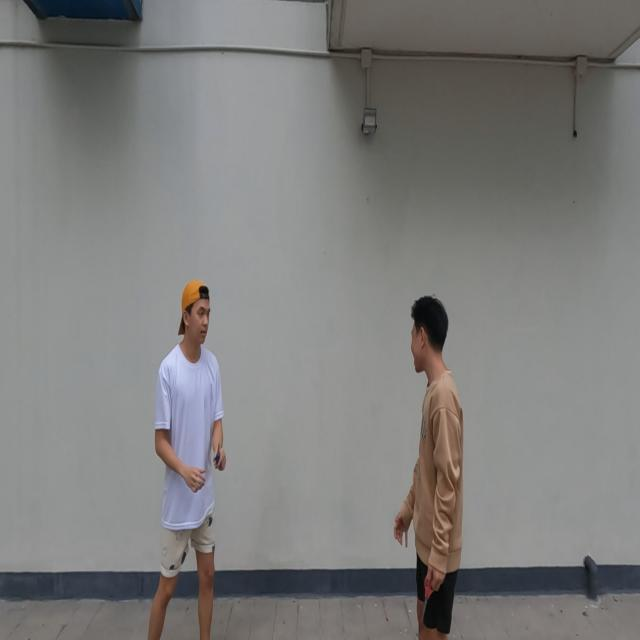scissor: (420, 576, 434, 620)
